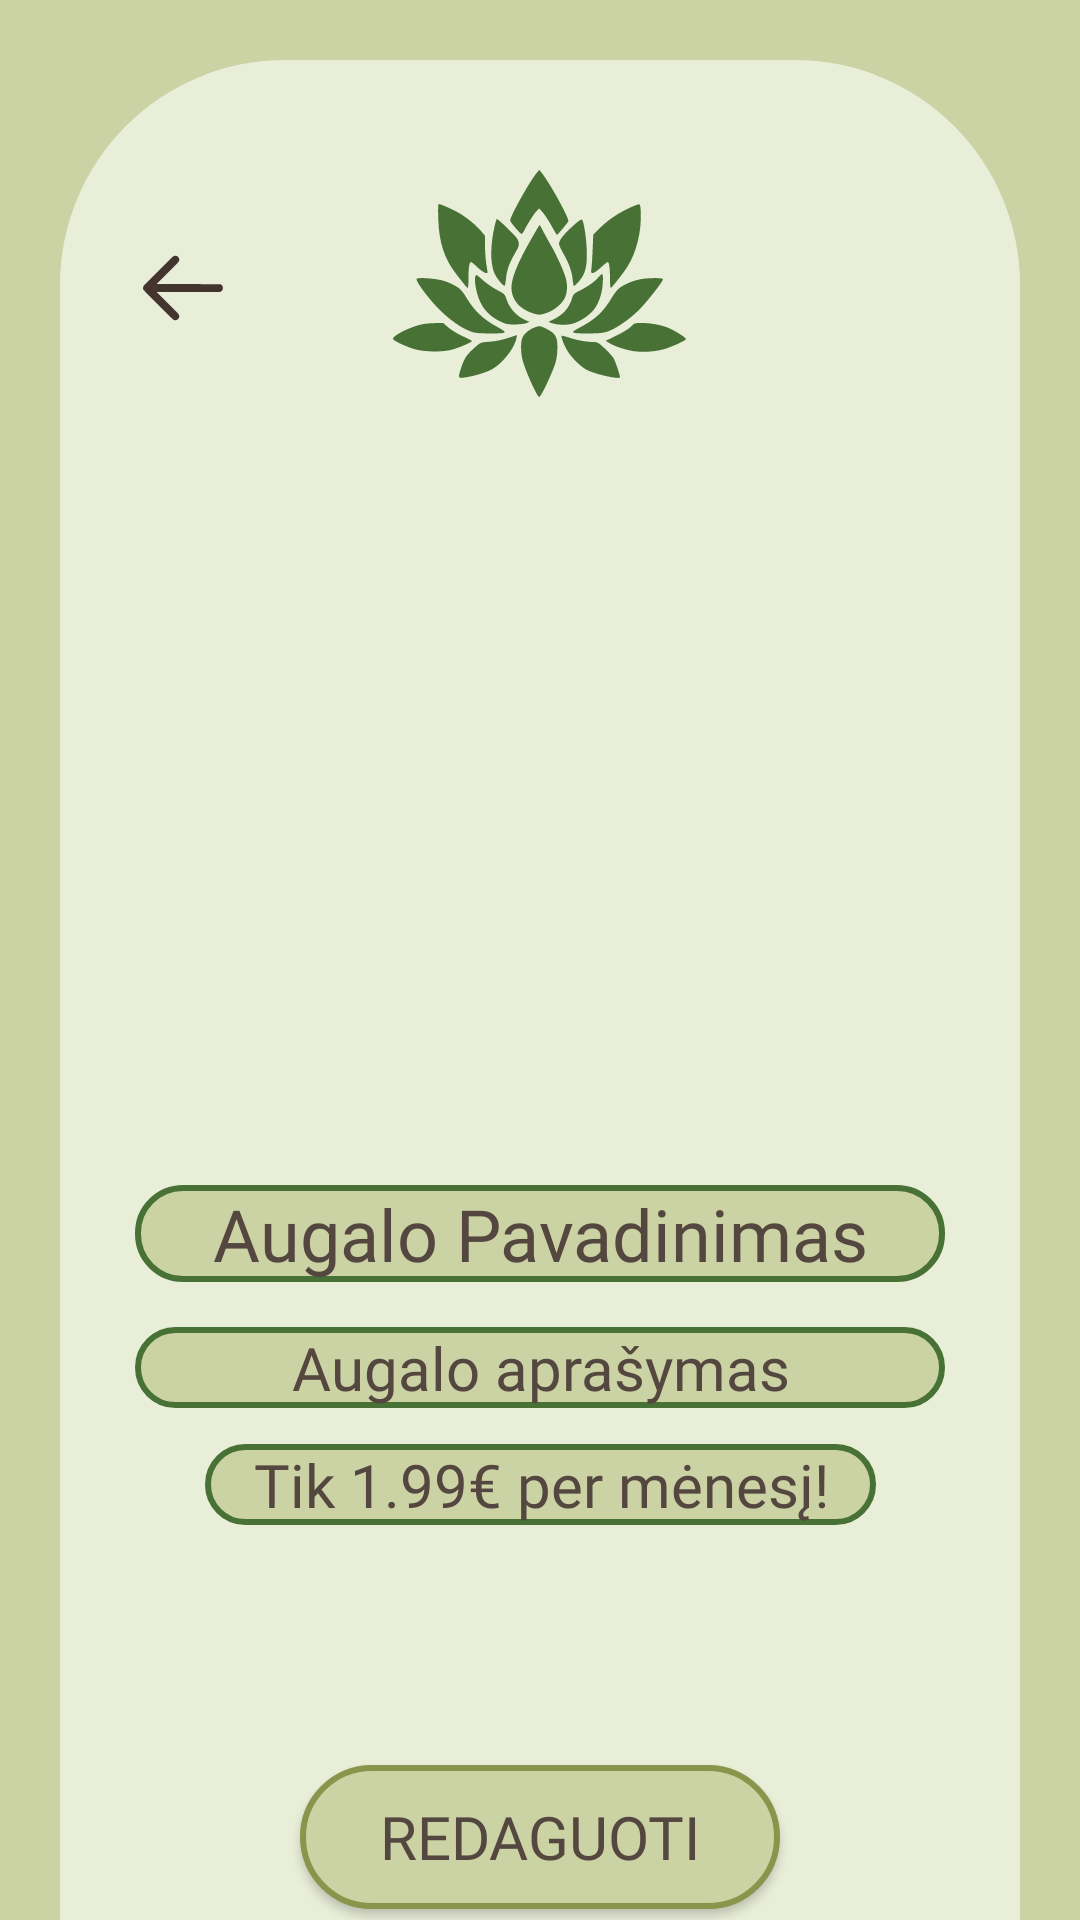

Icons on this 1080*1920 Android screen, each with the point to tap as point (x, y):
Lotus icon: point (539, 283)
